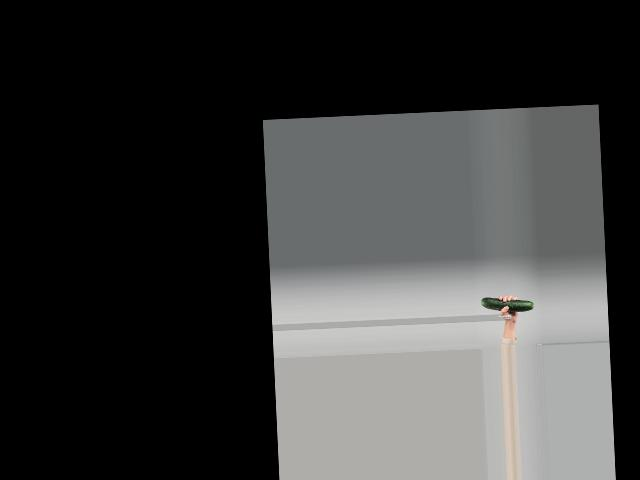cucumber: (480, 295, 532, 313)
